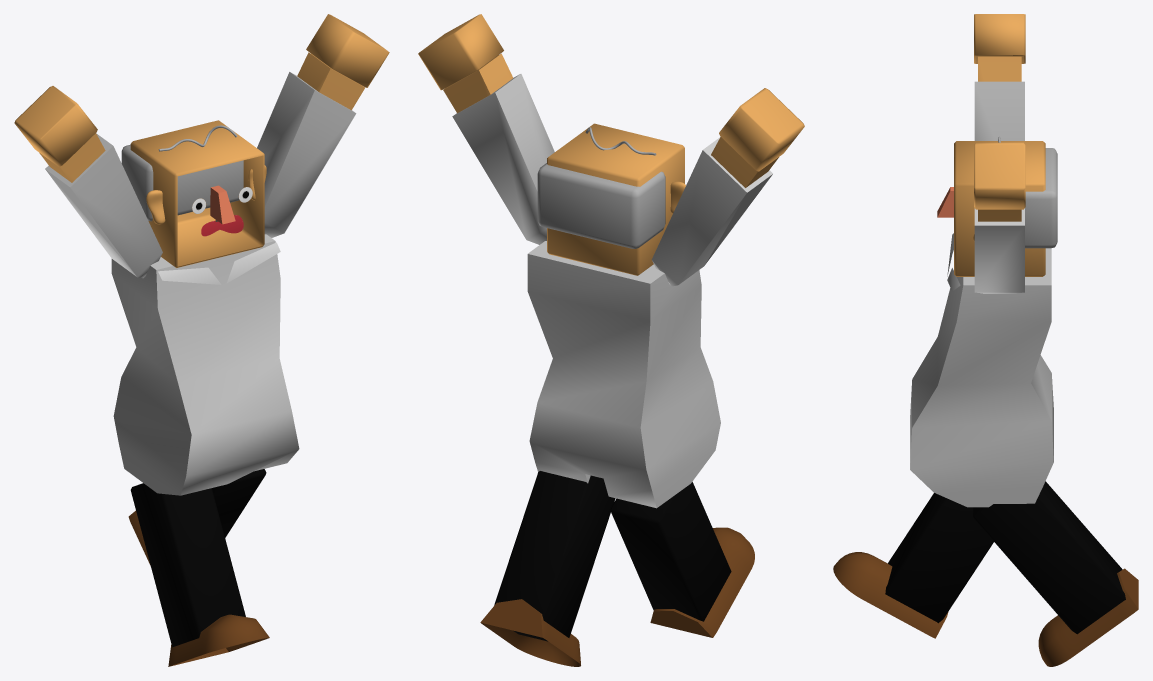
Rendered from Dad.fbx.
3 views of the same model, side by side, from view 1: azimuth 30°, elevation 25°; view 2: azimuth 150°, elevation 25°; view 3: azimuth 270°, elevation 25° (orthographic). The views are drawn at different scales.
Visible parts, largest first — view 1: dadBody, head, legR, armL, armR, legL; view 2: dadBody, head, legL, armL, legR, armR; view 3: dadBody, legL, legR, armL, head, armR.
Boxes of the visible parts, x1,y1,x2,y2 form: dadBody: [111, 234, 299, 495]; head: [121, 120, 266, 267]; legR: [130, 483, 269, 666]; armL: [257, 14, 389, 237]; armR: [14, 86, 162, 278]; legL: [128, 469, 266, 565]; dadBody: [527, 241, 720, 508]; head: [537, 123, 685, 275]; legL: [480, 471, 615, 666]; armL: [418, 14, 554, 244]; legR: [610, 482, 754, 637]; armR: [651, 88, 804, 286]; dadBody: [910, 233, 1053, 507]; legL: [973, 481, 1138, 666]; legR: [833, 493, 993, 638]; armL: [974, 142, 1025, 293]; head: [937, 136, 1057, 276]; armR: [974, 14, 1025, 140].
Bounding box in the file's own units: 773 × 1216 × 587.
8 materials, 1 textured.
